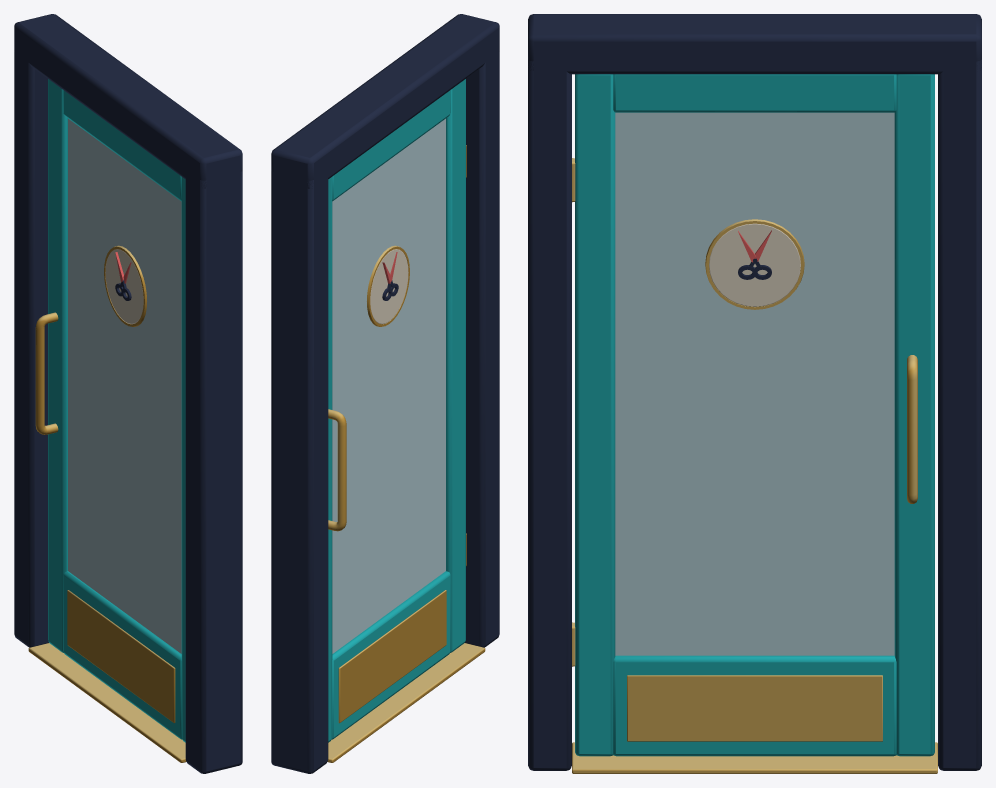
File: door.glb
The picture shows the model from 3 angles, left to right: view 1: azimuth 30°, elevation 25°; view 2: azimuth 150°, elevation 25°; view 3: azimuth 270°, elevation 25°; orthographic projection. The views are drawn at different scales.
Parts seen in each view (by area): view 1: Leaf, Frame; view 2: Leaf, Frame; view 3: Leaf, Frame.
Part boxes in pixels (box(x1,y1,x2,y2)): Leaf: box(35, 79, 185, 742); Frame: box(14, 14, 242, 773); Leaf: box(328, 79, 465, 742); Frame: box(271, 14, 499, 773); Leaf: box(575, 74, 934, 756); Frame: box(528, 14, 981, 773).
Bounding box in the file's own units: 0.1985 × 2.22 × 1.24.
